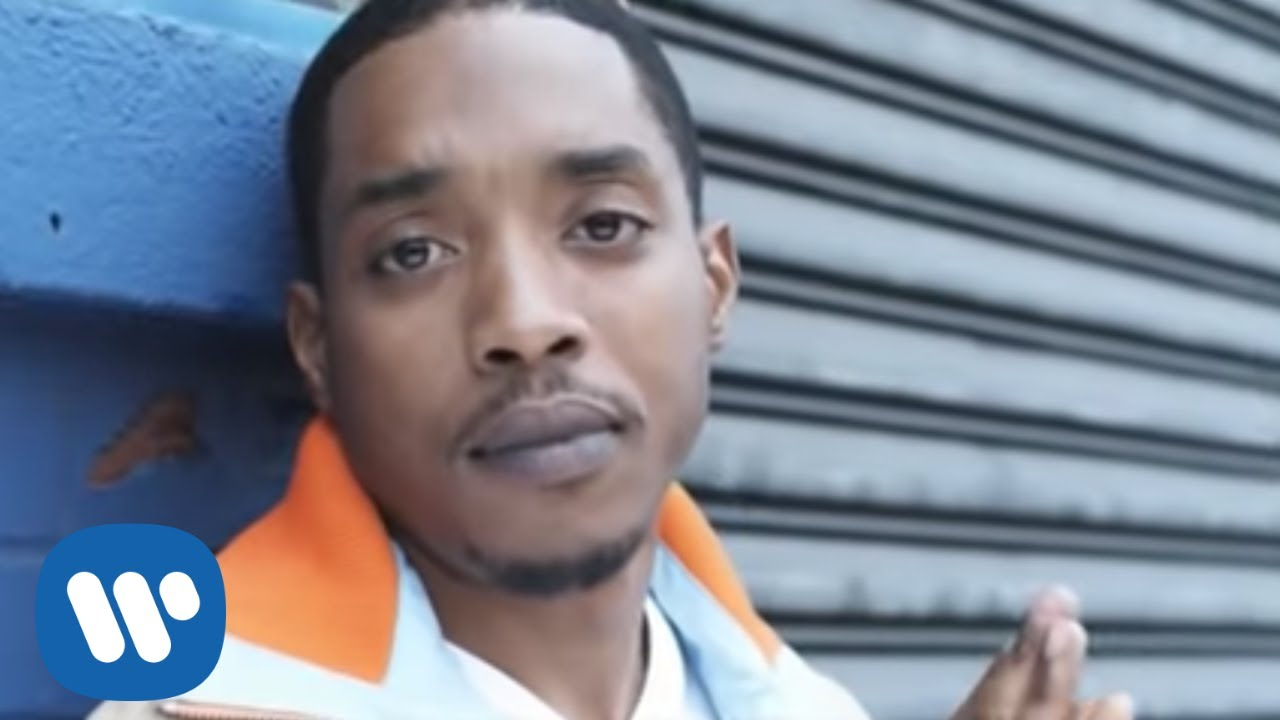NoMask: (327, 128, 688, 585)
